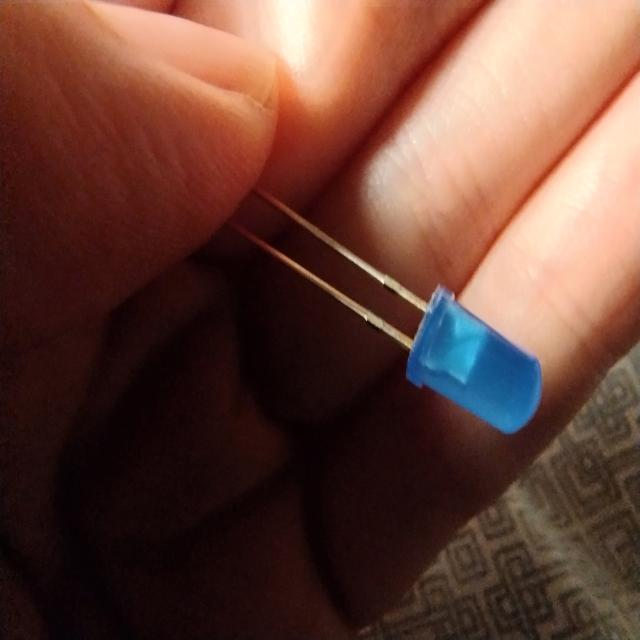blue_led: (404, 283, 544, 437)
